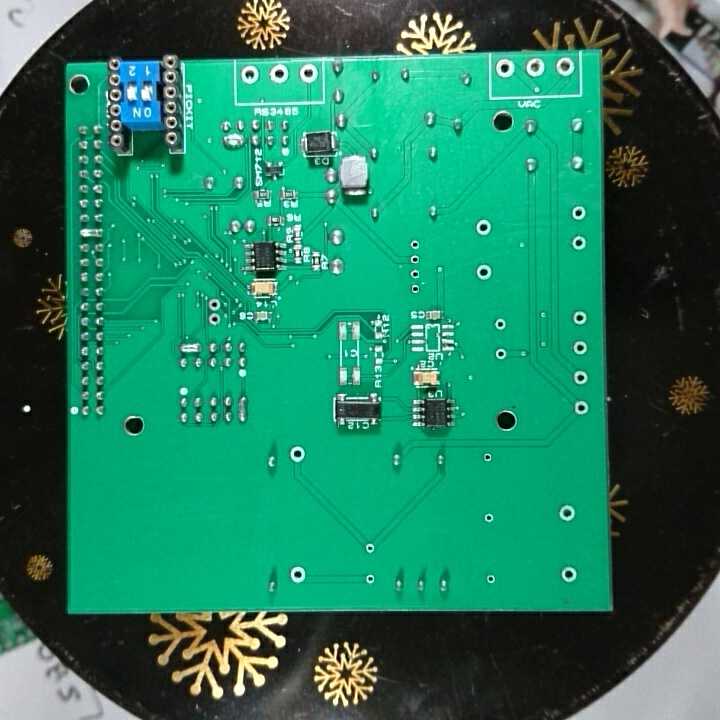F: (523, 55, 548, 82), (554, 56, 577, 82), (238, 63, 261, 86), (297, 63, 319, 86), (494, 58, 517, 80), (558, 562, 580, 585), (287, 563, 309, 586), (268, 63, 290, 85), (556, 502, 577, 525), (288, 443, 308, 466), (474, 260, 493, 283), (474, 217, 494, 238), (569, 232, 589, 252), (571, 338, 591, 357), (569, 204, 590, 222), (570, 308, 588, 329), (572, 368, 591, 387), (205, 311, 224, 328), (572, 397, 594, 410), (493, 347, 510, 363), (206, 296, 222, 313), (492, 317, 510, 332), (363, 570, 377, 589), (484, 572, 499, 587), (482, 511, 497, 526), (363, 540, 377, 555), (408, 237, 422, 251), (408, 253, 421, 267), (409, 267, 422, 281), (408, 283, 422, 296), (480, 451, 494, 464)
P: (219, 131, 245, 149), (177, 338, 203, 356), (77, 225, 106, 241), (235, 392, 249, 425)
